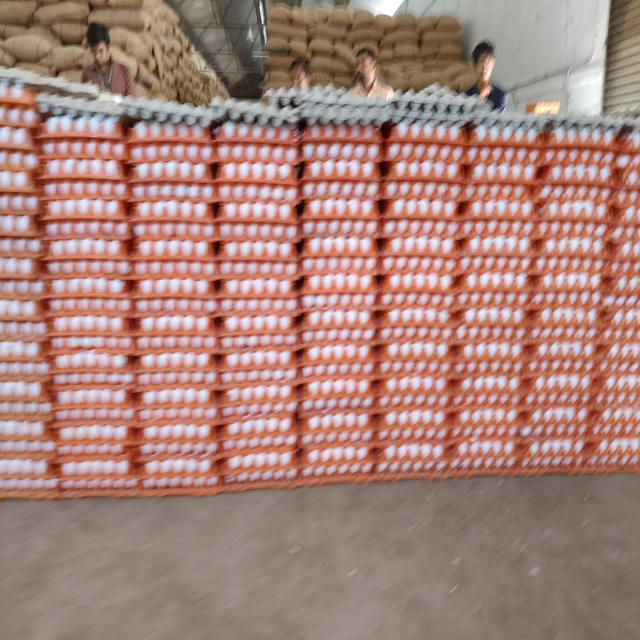egg_tray: (220, 274, 297, 485), (136, 298, 216, 454), (0, 279, 56, 497), (137, 351, 219, 492), (218, 349, 297, 483), (452, 342, 559, 438), (377, 187, 458, 309), (219, 298, 297, 421), (42, 190, 131, 297), (301, 283, 374, 411), (217, 241, 298, 350), (0, 279, 51, 452), (457, 189, 540, 291), (132, 201, 216, 298), (49, 329, 134, 424), (48, 330, 134, 423), (532, 199, 616, 293), (375, 307, 451, 410), (48, 298, 133, 390), (300, 307, 375, 411), (134, 314, 217, 407), (458, 199, 539, 291), (136, 332, 217, 423), (527, 406, 638, 472), (127, 122, 214, 203), (49, 311, 134, 393), (378, 222, 458, 309), (38, 116, 125, 196), (377, 326, 451, 420), (0, 280, 50, 417), (43, 217, 130, 295), (216, 122, 299, 203), (376, 255, 455, 340), (131, 221, 217, 297), (217, 219, 298, 298), (219, 334, 297, 416), (377, 294, 455, 375), (217, 219, 297, 297), (217, 241, 298, 318), (383, 123, 466, 198), (377, 235, 459, 309), (301, 125, 382, 199), (300, 335, 375, 413), (218, 298, 298, 370), (536, 185, 614, 258), (380, 219, 458, 291), (135, 351, 217, 419), (127, 122, 214, 186), (456, 221, 534, 292), (135, 388, 218, 454), (447, 402, 521, 476), (520, 367, 596, 439), (532, 221, 609, 292), (444, 406, 521, 476), (447, 340, 526, 407), (376, 406, 448, 479), (43, 220, 130, 280), (526, 318, 621, 372), (0, 316, 50, 418), (44, 238, 130, 297), (464, 125, 548, 185), (132, 239, 217, 295), (133, 222, 216, 279), (542, 126, 618, 188), (302, 236, 378, 298), (217, 239, 297, 297), (217, 241, 298, 298), (218, 295, 299, 351), (519, 348, 598, 405), (449, 308, 530, 362), (517, 404, 629, 443), (442, 215, 545, 257), (376, 289, 456, 343), (301, 235, 378, 291), (378, 255, 459, 307), (450, 182, 563, 219), (300, 294, 376, 349), (602, 262, 640, 370), (219, 347, 298, 398), (521, 361, 597, 414), (0, 334, 50, 414), (447, 357, 522, 410), (534, 181, 638, 219), (47, 294, 133, 338), (462, 141, 554, 182), (46, 294, 132, 336), (39, 134, 127, 175), (438, 406, 541, 441), (377, 361, 449, 411), (219, 413, 298, 458), (0, 195, 42, 279), (56, 457, 140, 498), (133, 258, 215, 300), (218, 379, 298, 422), (55, 453, 138, 494), (138, 453, 219, 495), (133, 296, 218, 336), (300, 125, 383, 165), (300, 341, 375, 385), (137, 418, 219, 458), (218, 202, 298, 243), (221, 447, 299, 489), (454, 290, 542, 327), (381, 198, 458, 240), (213, 132, 300, 169), (301, 197, 379, 238), (300, 373, 376, 415), (52, 384, 133, 423), (593, 330, 640, 397), (591, 372, 640, 436), (602, 228, 640, 310), (600, 295, 640, 372), (516, 437, 597, 475), (217, 201, 298, 239), (300, 443, 375, 484), (460, 185, 544, 221), (51, 419, 135, 455), (541, 148, 618, 187), (523, 289, 604, 326), (301, 124, 382, 161), (594, 325, 640, 390), (446, 437, 522, 476), (218, 261, 296, 299), (301, 273, 377, 311), (377, 406, 449, 446), (386, 121, 467, 156), (128, 134, 219, 165), (299, 412, 377, 447), (0, 123, 39, 193), (215, 121, 297, 154), (375, 441, 448, 478), (542, 151, 615, 188), (130, 199, 214, 231), (135, 305, 216, 338), (0, 452, 58, 498), (384, 134, 472, 164), (537, 188, 610, 223), (301, 169, 380, 201), (41, 151, 124, 181), (38, 114, 123, 142), (301, 156, 380, 186), (127, 122, 212, 149), (226, 255, 293, 289), (42, 177, 128, 203), (41, 197, 126, 222), (215, 180, 300, 205), (380, 179, 475, 201), (584, 436, 640, 473), (467, 122, 546, 148), (0, 141, 39, 193), (0, 419, 55, 455), (0, 98, 39, 148), (0, 278, 45, 321), (545, 124, 618, 150), (217, 161, 296, 185), (130, 181, 216, 203), (130, 160, 212, 183), (0, 235, 42, 278), (0, 279, 44, 320), (609, 201, 640, 259), (386, 159, 464, 182), (303, 197, 379, 220), (590, 405, 640, 439), (0, 194, 39, 237), (616, 131, 640, 190), (0, 96, 39, 129), (0, 358, 48, 383), (0, 398, 52, 419), (0, 79, 36, 109), (0, 207, 36, 236), (0, 195, 37, 223), (611, 187, 640, 215), (0, 321, 35, 342), (480, 328, 514, 349), (619, 129, 640, 156), (0, 185, 35, 200), (150, 358, 193, 368), (402, 427, 435, 440), (565, 412, 584, 433), (254, 321, 284, 332), (380, 423, 400, 439), (541, 343, 563, 357), (618, 207, 637, 223), (140, 337, 164, 349), (343, 273, 359, 287), (558, 258, 575, 269), (603, 407, 623, 416), (530, 422, 548, 432), (492, 185, 514, 193), (202, 186, 213, 201), (613, 376, 635, 383), (571, 187, 588, 196), (629, 169, 638, 185), (621, 241, 634, 252), (238, 321, 251, 331), (335, 363, 351, 371), (312, 274, 328, 282), (452, 342, 463, 353), (231, 243, 243, 253), (239, 203, 258, 209), (226, 322, 236, 333), (283, 261, 295, 270), (240, 203, 265, 207), (585, 341, 593, 353), (95, 286, 107, 293), (132, 154, 144, 161), (369, 163, 378, 172), (487, 349, 497, 357), (13, 228, 28, 233), (180, 227, 188, 236), (622, 255, 633, 261), (360, 229, 371, 235), (302, 370, 313, 376), (7, 301, 20, 306), (591, 150, 604, 155), (0, 300, 8, 308), (576, 203, 584, 211), (516, 187, 524, 195), (8, 256, 22, 260), (260, 203, 277, 206), (601, 393, 611, 398), (478, 185, 488, 190), (284, 276, 291, 283), (468, 328, 475, 335), (628, 241, 634, 249), (290, 336, 296, 344), (105, 185, 114, 190), (601, 205, 606, 214), (622, 255, 633, 259), (322, 167, 328, 174), (12, 346, 18, 353), (479, 305, 489, 309), (56, 289, 64, 294), (109, 287, 117, 292), (618, 231, 624, 237), (384, 364, 390, 370), (362, 365, 368, 371), (83, 287, 90, 292), (25, 233, 32, 238), (268, 203, 279, 206), (401, 342, 412, 345), (447, 213, 455, 217), (554, 204, 558, 212), (0, 126, 3, 136), (121, 185, 128, 189), (477, 185, 490, 187), (565, 204, 570, 209), (594, 188, 599, 193), (0, 215, 4, 221), (522, 186, 528, 190), (20, 323, 31, 325), (331, 367, 334, 374), (520, 186, 527, 189), (401, 279, 406, 283), (552, 213, 556, 218), (291, 234, 296, 238), (549, 430, 554, 434), (196, 390, 201, 394), (218, 156, 222, 161), (477, 331, 480, 337), (436, 237, 442, 240), (574, 341, 580, 344), (247, 243, 251, 247), (561, 155, 565, 159), (230, 150, 232, 158), (134, 194, 139, 197), (433, 377, 438, 380), (30, 274, 35, 277), (389, 158, 394, 161), (494, 328, 498, 331), (354, 283, 358, 286), (411, 279, 414, 283), (101, 143, 107, 145), (78, 142, 82, 145), (634, 312, 637, 316), (575, 259, 579, 262), (12, 236, 18, 238), (602, 198, 606, 201), (396, 294, 399, 298), (68, 401, 72, 404), (583, 151, 587, 154), (599, 383, 601, 389), (632, 232, 634, 237), (96, 141, 98, 146), (574, 354, 579, 356), (258, 247, 260, 252), (88, 193, 93, 195), (63, 417, 68, 419), (274, 245, 277, 248), (424, 246, 427, 249), (252, 409, 255, 412), (632, 367, 635, 370), (392, 320, 395, 323), (3, 274, 6, 277), (350, 229, 353, 232), (28, 327, 31, 330), (614, 320, 617, 323), (439, 225, 442, 228), (201, 394, 204, 397), (618, 311, 622, 313), (424, 221, 428, 223), (174, 333, 178, 335), (591, 207, 593, 211), (534, 207, 536, 211), (224, 205, 228, 207), (278, 261, 282, 263), (242, 170, 244, 174), (188, 387, 192, 389), (307, 364, 314, 365), (492, 185, 499, 186), (270, 269, 272, 272), (291, 246, 293, 249), (487, 314, 490, 316), (350, 287, 352, 290), (141, 290, 144, 292), (588, 412, 589, 418), (634, 300, 636, 303), (187, 340, 190, 342), (445, 157, 448, 159), (248, 235, 251, 237), (570, 188, 572, 191), (514, 187, 517, 189), (208, 245, 210, 248), (67, 402, 72, 403), (90, 300, 95, 301), (555, 445, 556, 450), (71, 365, 73, 367), (571, 155, 573, 157), (485, 327, 487, 329), (198, 364, 200, 366), (203, 363, 205, 365), (294, 194, 296, 196), (70, 151, 72, 153), (453, 223, 454, 227), (532, 362, 534, 364), (396, 158, 400, 159), (470, 186, 472, 188), (478, 185, 482, 186), (310, 289, 314, 290), (462, 213, 464, 215), (213, 447, 214, 450), (292, 255, 293, 258), (515, 187, 518, 188), (51, 142, 54, 143), (627, 332, 630, 333), (418, 322, 421, 323), (65, 418, 68, 419), (3, 322, 6, 323), (114, 400, 117, 401), (444, 238, 447, 239), (213, 439, 214, 441), (293, 247, 294, 249), (422, 425, 424, 426), (490, 307, 491, 309), (490, 189, 492, 190), (198, 361, 200, 362), (213, 308, 214, 310), (207, 305, 208, 307), (282, 205, 284, 206), (43, 444, 44, 446), (607, 298, 608, 300), (21, 249, 22, 251), (16, 218, 18, 219), (2, 322, 3, 324), (257, 321, 259, 322), (593, 220, 595, 221), (345, 289, 346, 291), (607, 389, 609, 390), (564, 342, 566, 343), (622, 222, 623, 223), (456, 187, 457, 188), (559, 157, 560, 158), (5, 316, 6, 317), (256, 409, 257, 410), (605, 296, 606, 297), (10, 269, 11, 270), (438, 216, 439, 217), (338, 189, 339, 190), (158, 147, 159, 148), (442, 314, 443, 315), (276, 262, 277, 263), (0, 107, 1, 108), (467, 267, 468, 268), (605, 385, 606, 386), (614, 205, 614, 205), (292, 283, 292, 283), (280, 276, 284, 276), (221, 263, 222, 263), (252, 251, 252, 252), (432, 425, 432, 426), (12, 207, 12, 208), (494, 307, 494, 308), (476, 350, 476, 350), (489, 330, 490, 330), (190, 341, 193, 341), (632, 433, 632, 434), (123, 145, 123, 146), (530, 430, 530, 432), (506, 196, 508, 196), (616, 314, 617, 314), (590, 367, 590, 369), (208, 318, 208, 319), (414, 343, 414, 343), (10, 263, 10, 265), (314, 230, 315, 230), (290, 218, 290, 219), (263, 209, 263, 214), (16, 323, 18, 323), (638, 221, 640, 221), (278, 268, 279, 268), (341, 284, 341, 286), (571, 401, 572, 401), (156, 234, 158, 234), (585, 410, 586, 410)
